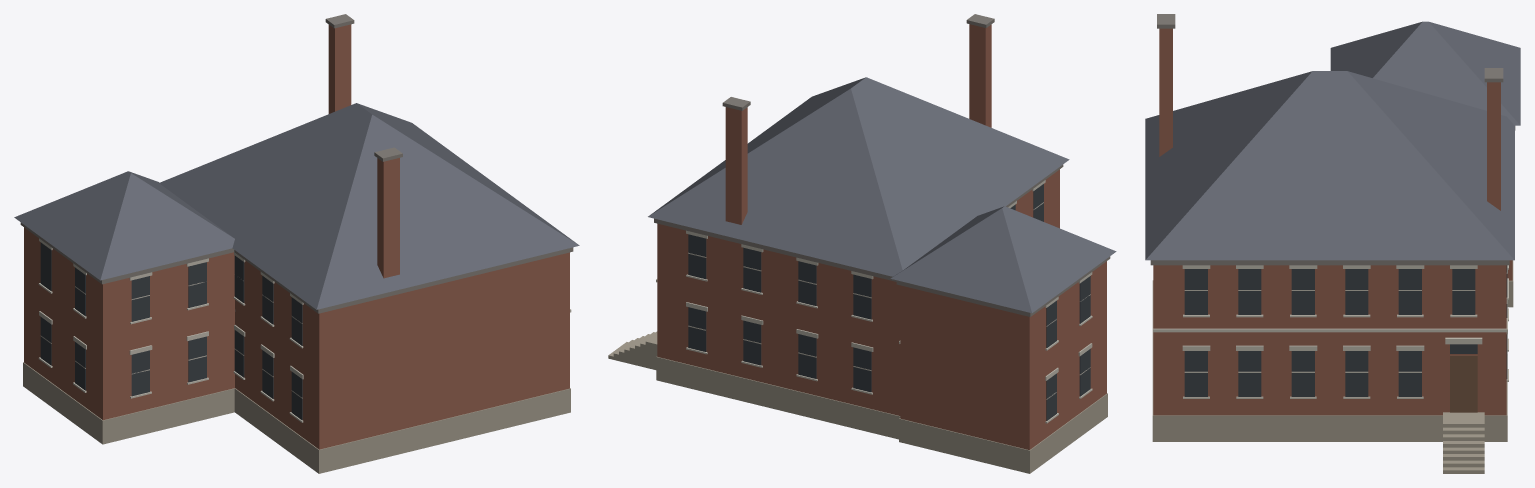
Rendered from house_1900_calumet__draft_1904.glb.
3 renders of one model, left to right at view 1: azimuth 30°, elevation 25°; view 2: azimuth 150°, elevation 25°; view 3: azimuth 270°, elevation 25°, orthographic. The views are drawn at different scales.
Visible parts, largest first — view 1: house_1900_calumet__draft_1904; view 2: house_1900_calumet__draft_1904; view 3: house_1900_calumet__draft_1904.
Boxes of the visible parts, bbox=[...] form: house_1900_calumet__draft_1904: bbox=[14, 14, 579, 473]; house_1900_calumet__draft_1904: bbox=[608, 14, 1116, 473]; house_1900_calumet__draft_1904: bbox=[1145, 14, 1520, 473].
Bounding box in the file's own units: 24.65 × 15.62 × 16.2.
